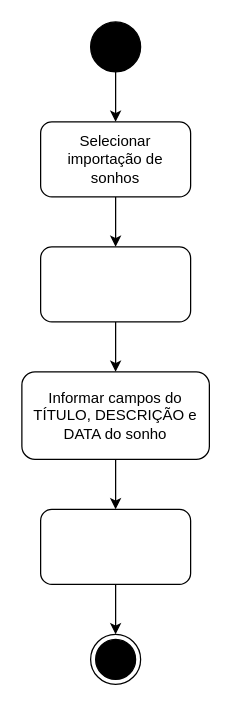
Some shapes in this 231 by 706 pixel diagram are drawn without their labels. The centre of each missing label's shape, as x and y in pixels:
"Informar JSON" belongs at (115,284).
"Iniciar criação em massa" belongs at (115,546).
